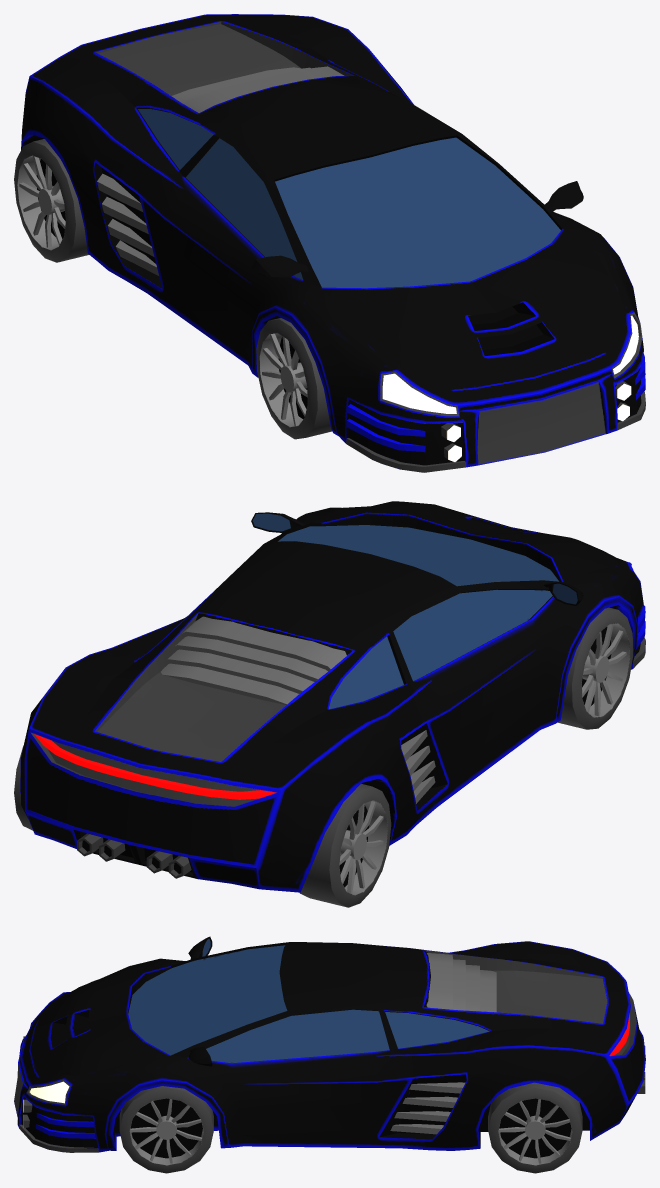
Rendered from ContestantCar.fbx.
3 views of the same model, one above another, from view 1: azimuth 30°, elevation 25°; view 2: azimuth 150°, elevation 25°; view 3: azimuth 270°, elevation 25° (orthographic). The views are drawn at different scales.
Visible parts, largest first — view 1: ContestantCar, CntestantCarW-BR, CntestantCarW-FR; view 2: ContestantCar, CntestantCarW-BR, CntestantCarW-FR; view 3: ContestantCar, CntestantCarW-BL, CntestantCarW-FL.
Boxes of the visible parts, x1,y1,x2,y2 form: ContestantCar: (21,14,645,472); CntestantCarW-BR: (14,139,88,262); CntestantCarW-FR: (256,318,331,439); ContestantCar: (20,501,645,892); CntestantCarW-BR: (300,783,391,907); CntestantCarW-FR: (558,607,633,729); ContestantCar: (14,936,645,1152); CntestantCarW-BL: (488,1082,582,1173); CntestantCarW-FL: (119,1086,213,1173).
Size of the model in its own units: 244 by 137 by 536.
Materials: 1 (1 with a texture image).
